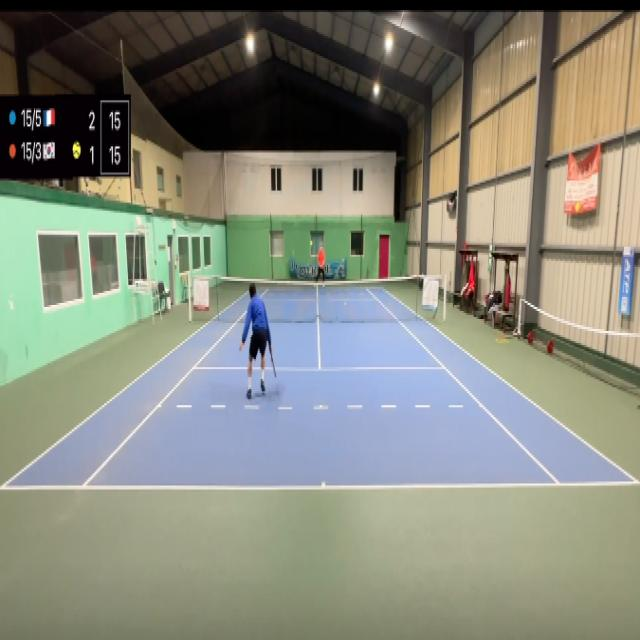ball: (310, 240, 313, 248)
